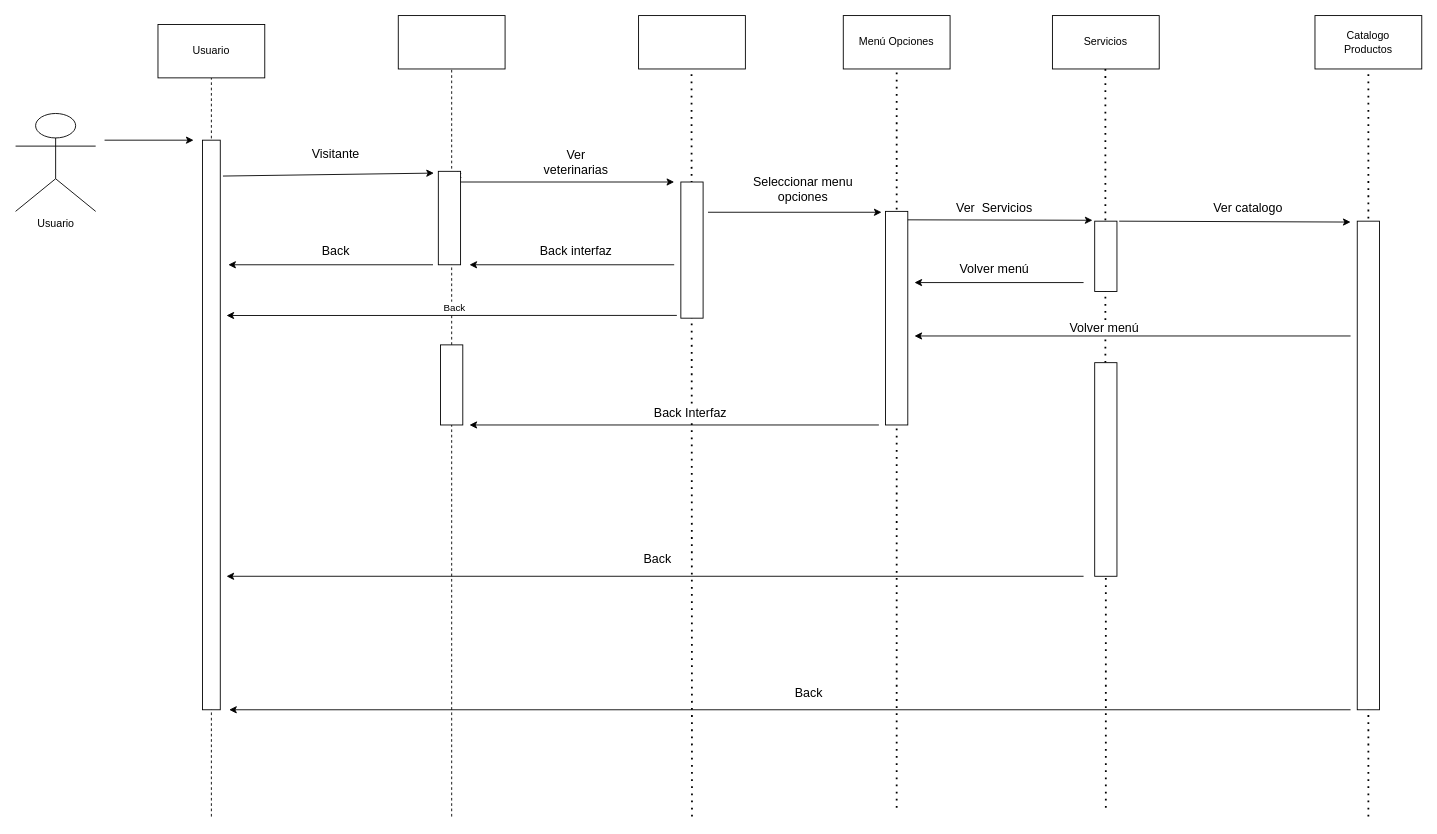
Some shapes in this 1437 by 834 pixel diagram are drawn without their labels. Here are the shapes that lost their labels. From the top down, the box of each, then its label:
(397, 15, 505, 69): Interfaz
(638, 15, 745, 69): Veterinarias asociada
